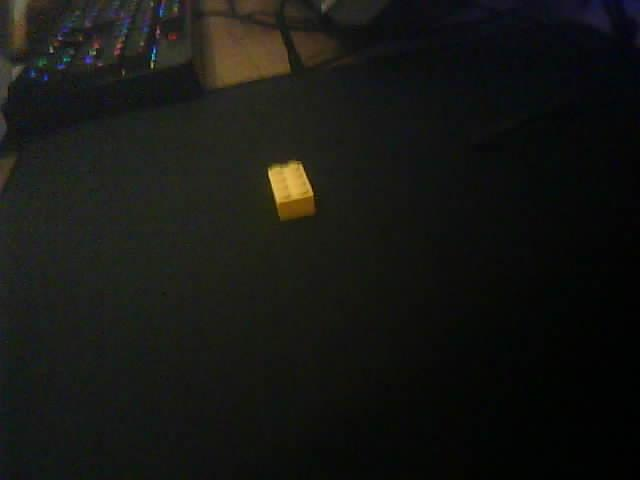lego: (266, 160, 316, 221)
